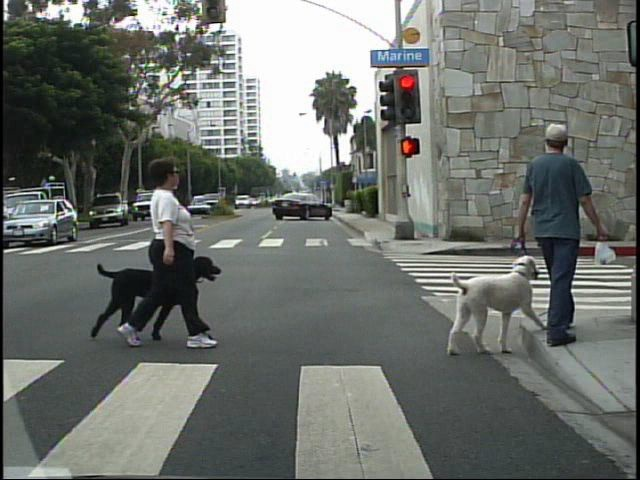person: (512, 114, 608, 352), (121, 143, 222, 347)
